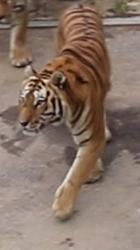tiger: (19, 3, 110, 219)
